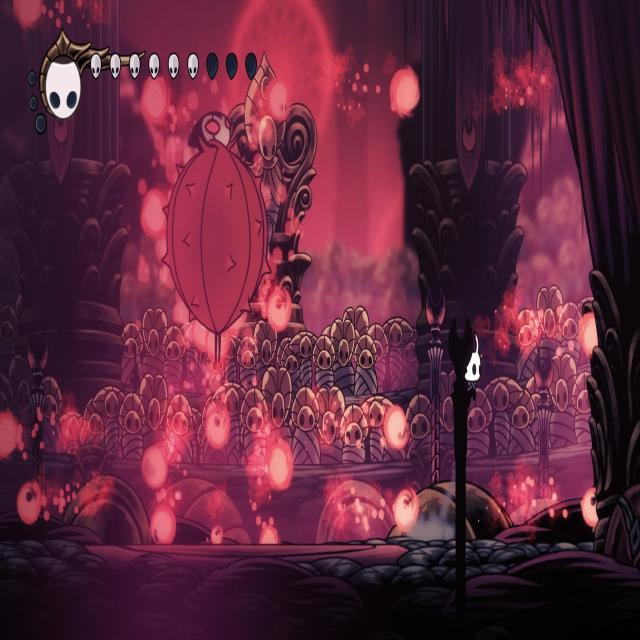Player: (464, 330, 484, 406)
Pufferfish: (157, 103, 271, 367)
Tiny Fireballs: (389, 67, 419, 118), (140, 78, 170, 128), (268, 441, 292, 492), (141, 445, 168, 489), (384, 405, 409, 451), (18, 481, 43, 527), (268, 285, 292, 332), (394, 488, 418, 532), (206, 405, 230, 449), (152, 506, 178, 546), (268, 81, 290, 125), (11, 0, 43, 28), (0, 411, 18, 460), (580, 314, 600, 356), (582, 488, 600, 528), (260, 525, 280, 545), (211, 524, 223, 544)
